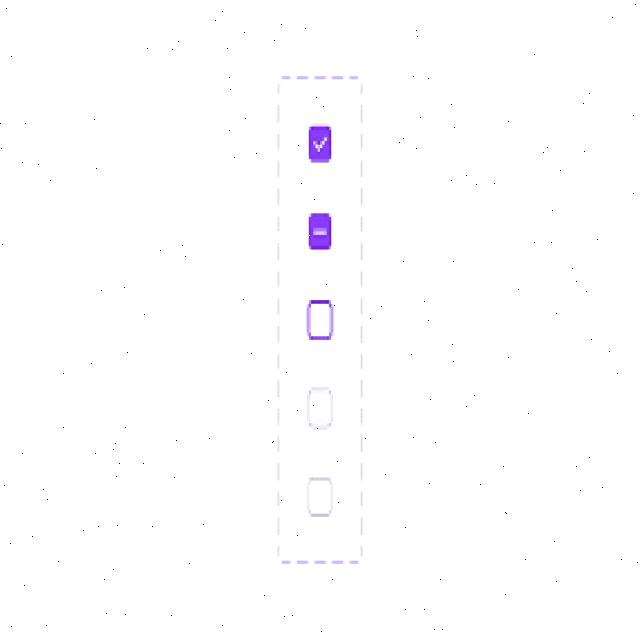checkbox: (307, 300, 333, 340), (308, 477, 334, 515), (309, 390, 333, 428), (308, 214, 332, 248), (310, 126, 330, 162)
